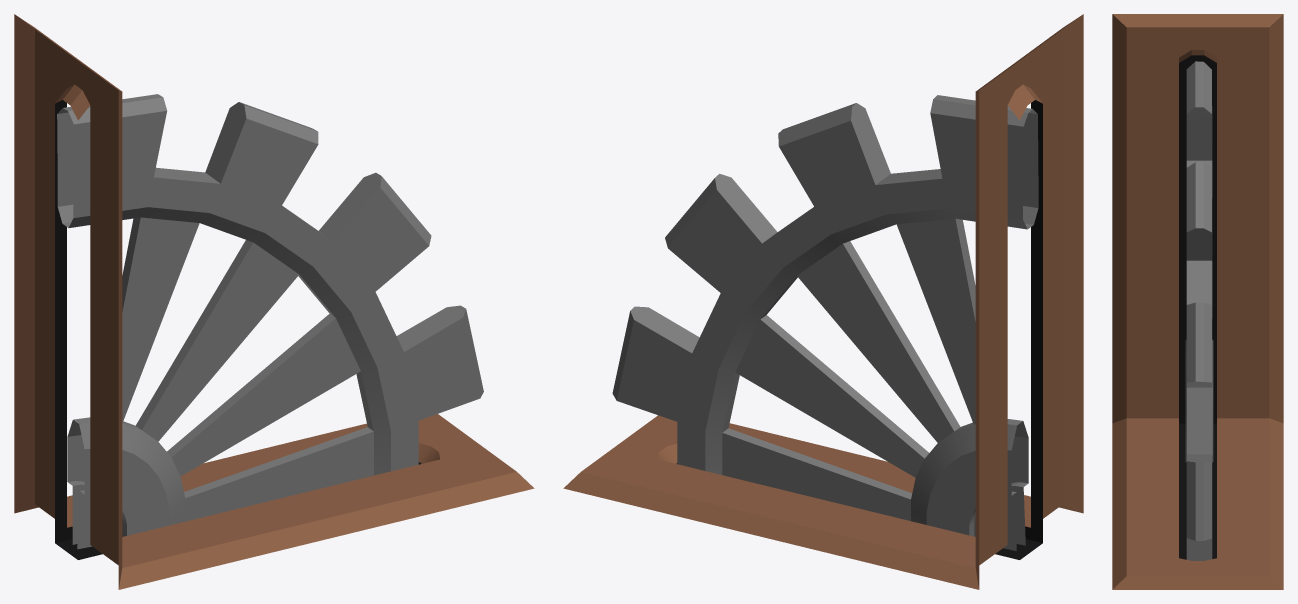
Rendered from Wall_Gear.fbx.
3 renders of one model, left to right at view 1: azimuth 30°, elevation 25°; view 2: azimuth 150°, elevation 25°; view 3: azimuth 270°, elevation 25°, orthographic. The views are drawn at different scales.
Visible parts, largest first — view 1: Wall_Gear; view 2: Wall_Gear; view 3: Wall_Gear.
Part boxes in pixels (x1,y1,x2,y2): Wall_Gear: (14, 14, 534, 589); Wall_Gear: (563, 14, 1083, 589); Wall_Gear: (1112, 14, 1283, 589).
Bounding box in the file's own units: 1.48 × 1.7 × 0.6421.
